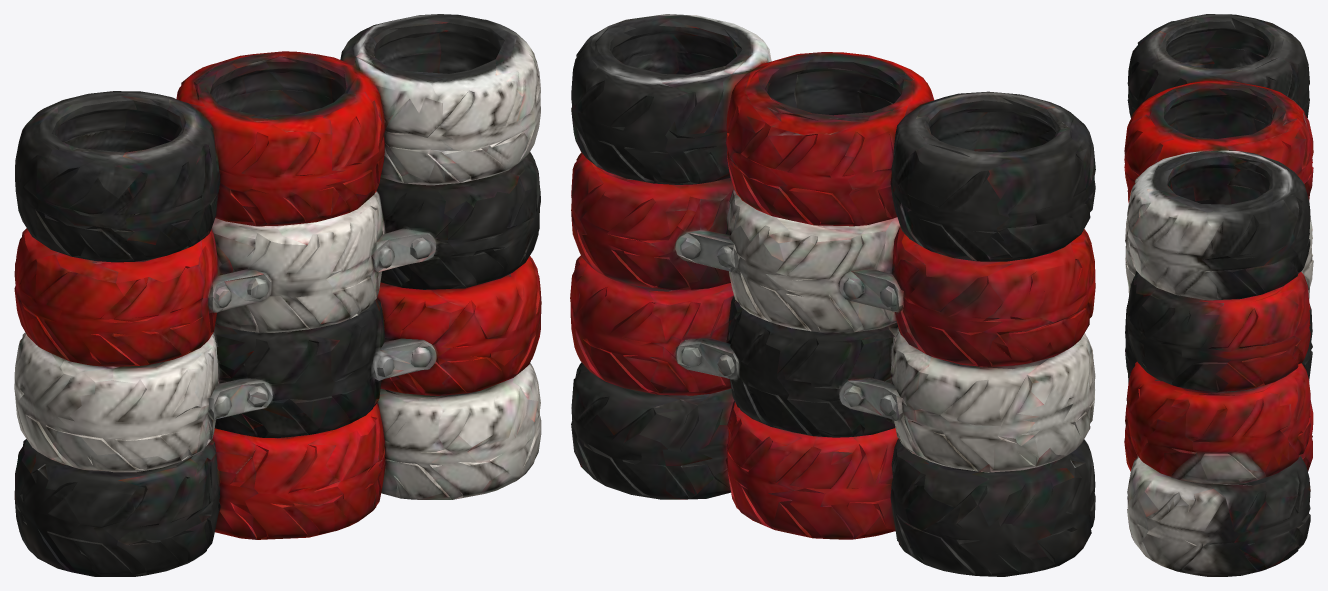
The model's file is prop-tyres.glb.
The picture shows the model from 3 angles, left to right: view 1: azimuth 30°, elevation 25°; view 2: azimuth 150°, elevation 25°; view 3: azimuth 270°, elevation 25°; orthographic projection. The views are drawn at different scales.
Size of the model in its own units: 1.9 by 1.54 by 0.7172.
1 material, 1 textured.
